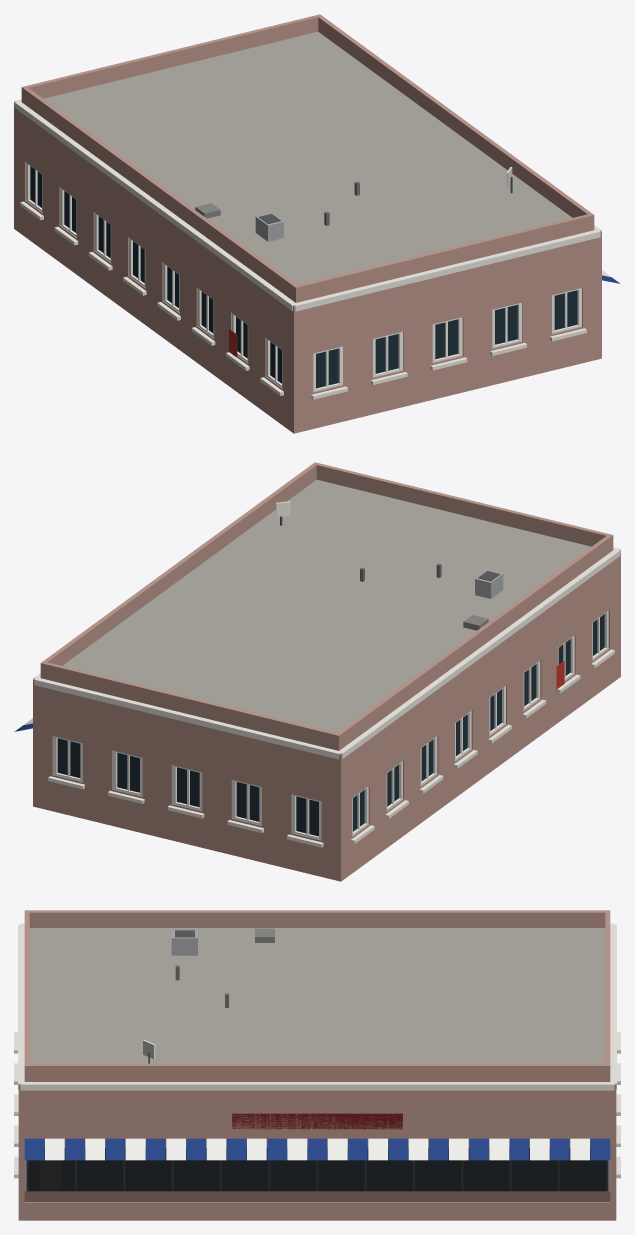
3 renders of one model, top to bottom at view 1: azimuth 30°, elevation 25°; view 2: azimuth 150°, elevation 25°; view 3: azimuth 270°, elevation 25°, orthographic. The views are drawn at different scales.
Parts seen in each view (by area): view 1: b795_opaque, b795_glass; view 2: b795_opaque, b795_glass; view 3: b795_opaque, b795_glass.
Boxes of the visible parts, x1,y1,x2,y2 form: b795_opaque: [14, 14, 620, 433]; b795_glass: [30, 166, 577, 388]; b795_opaque: [14, 462, 620, 881]; b795_glass: [57, 614, 604, 836]; b795_opaque: [14, 910, 620, 1220]; b795_glass: [29, 1148, 605, 1191].
Bounding box in the file's own units: 6246 × 2711 × 9214.
